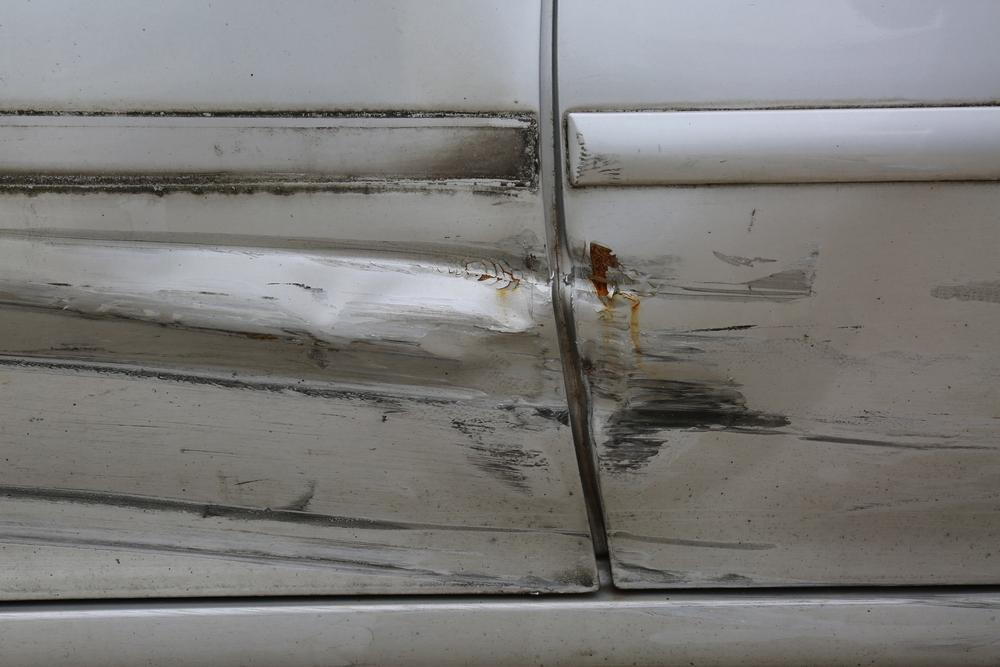scratch: (0, 213, 601, 601), (566, 232, 1000, 590)
